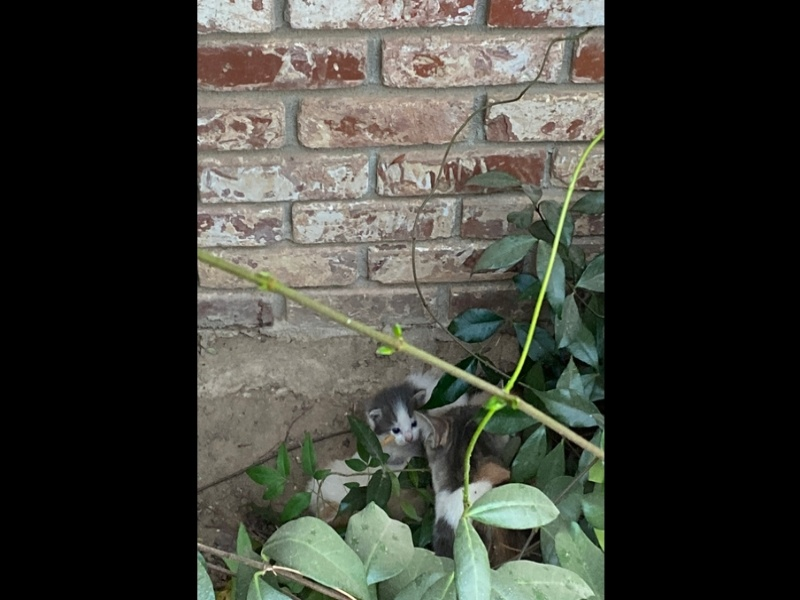cat: (409, 401, 546, 583), (311, 378, 459, 517)
